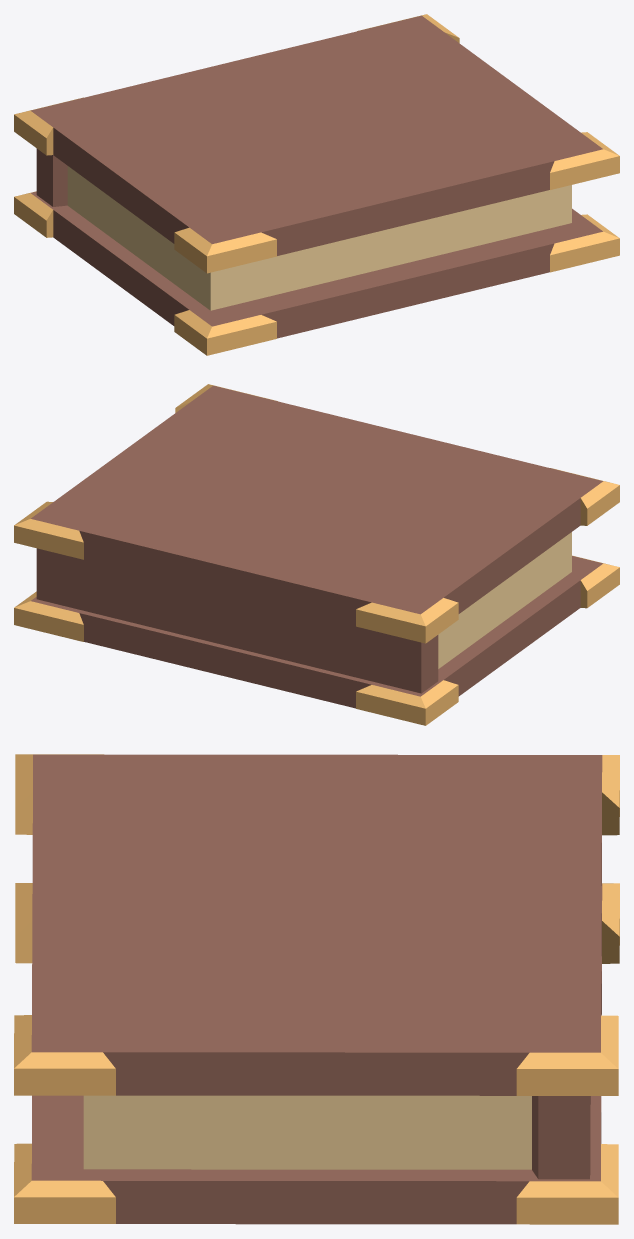
Rendered from LI_Book_Mesh_01.fbx.
3 views of the same model, one above another, from view 1: azimuth 30°, elevation 25°; view 2: azimuth 150°, elevation 25°; view 3: azimuth 270°, elevation 25° (orthographic). The views are drawn at different scales.
Parts seen in each view (by area): view 1: LI_Book_01; view 2: LI_Book_01; view 3: LI_Book_01.
Boxes of the visible parts, x1,y1,x2,y2 form: LI_Book_01: [14, 14, 619, 355]; LI_Book_01: [14, 384, 619, 725]; LI_Book_01: [14, 754, 619, 1224].
Bounding box in the file's own units: 0.5106 × 0.1299 × 0.4155.
